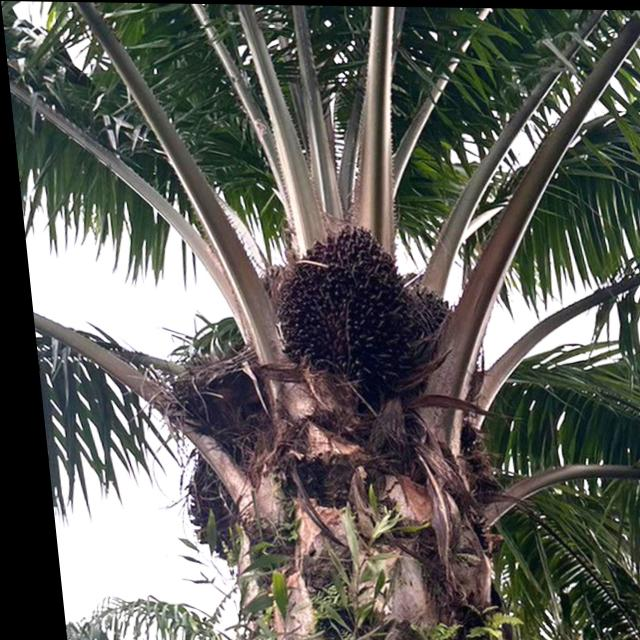ripe: (262, 218, 448, 366)
